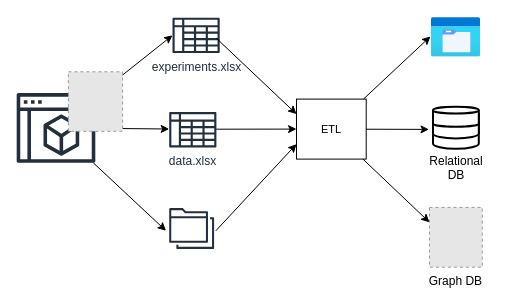
Some shapes in this 511 by 305 pixel diagram are drawn without their labels. Grey dashed boxes stand in for pictures. The shapes that lost their labels are listed below. From the top down, each one's centre as x and y in pixels, then its label:
At (x=455, y=37): "Local Storage".
At (x=55, y=127): "User Interface".
At (x=191, y=228): "Folder Tree".
